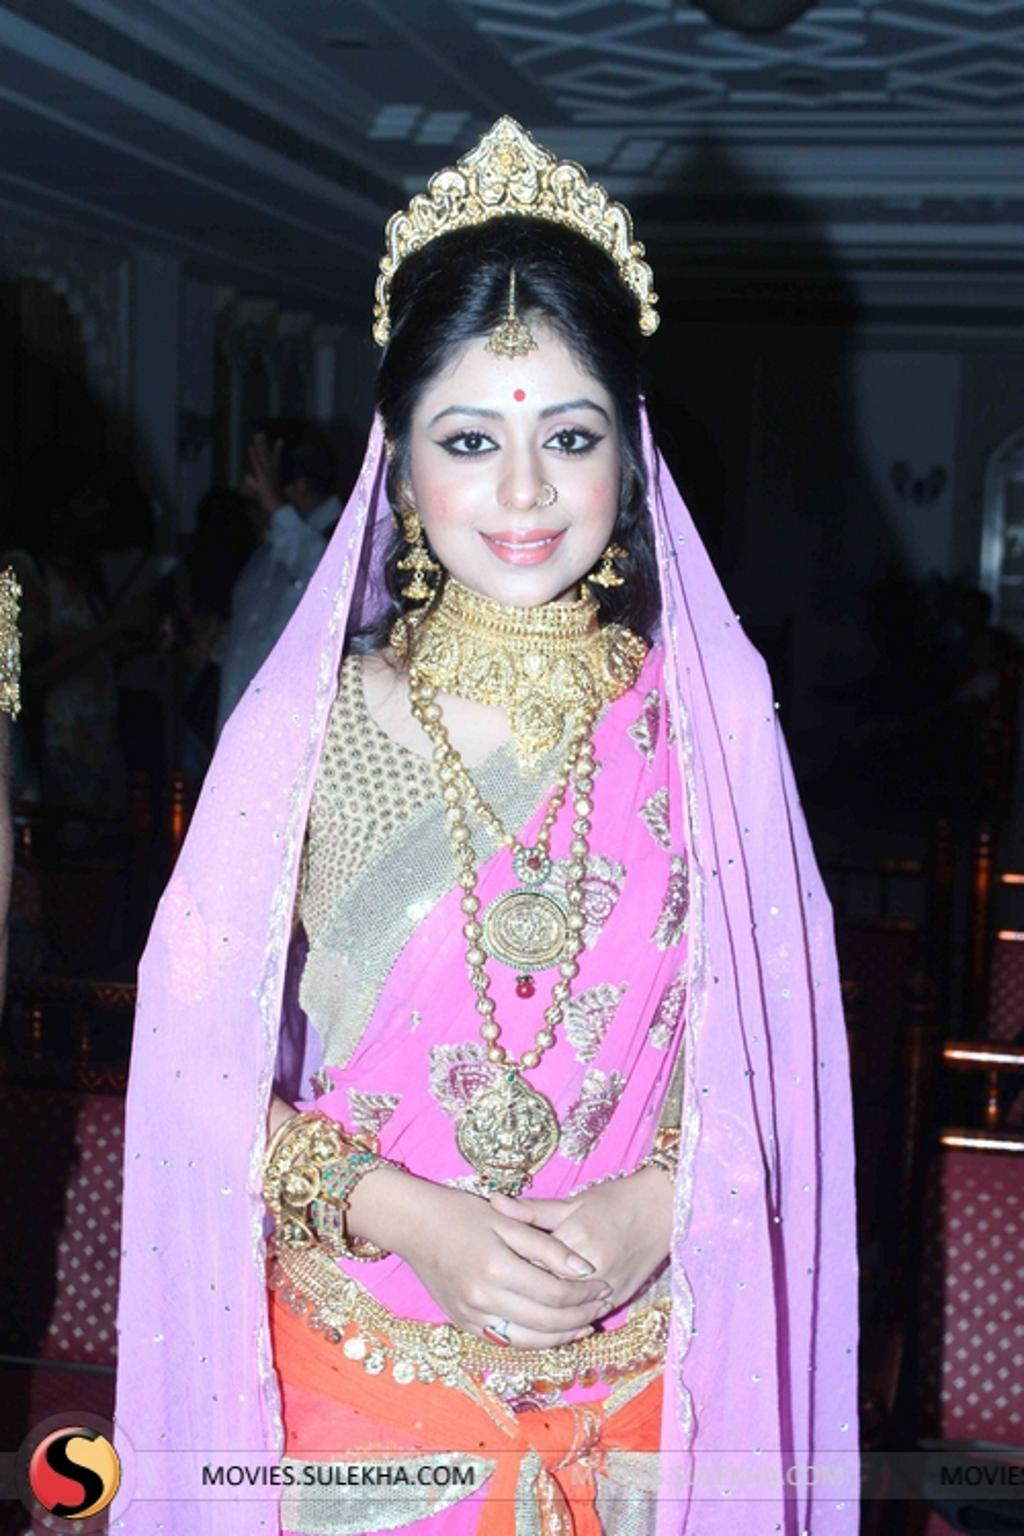face: (411, 321, 618, 609)
